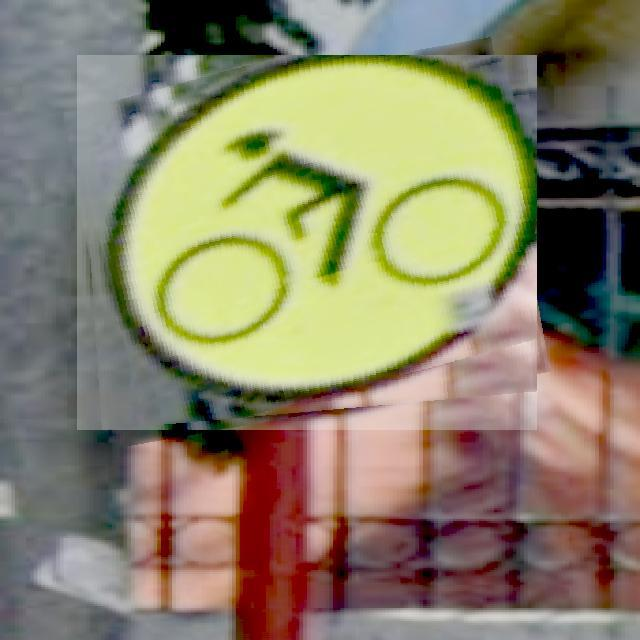bike lane: (77, 55, 537, 430)
